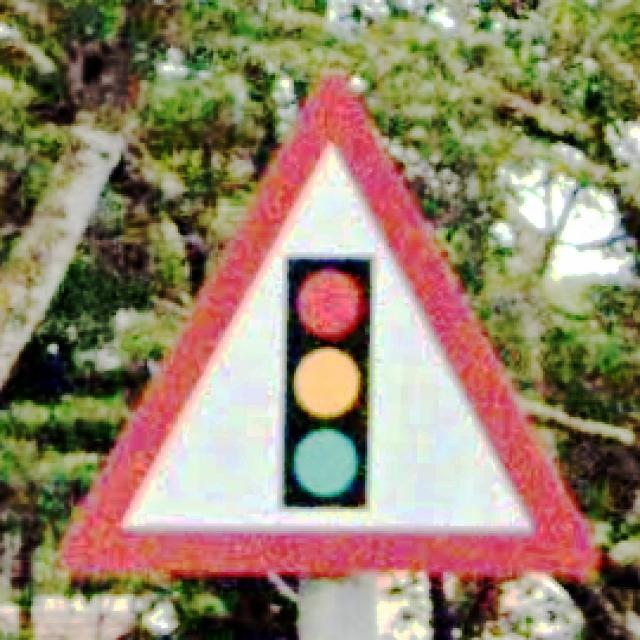signalahead: (62, 75, 602, 579)
